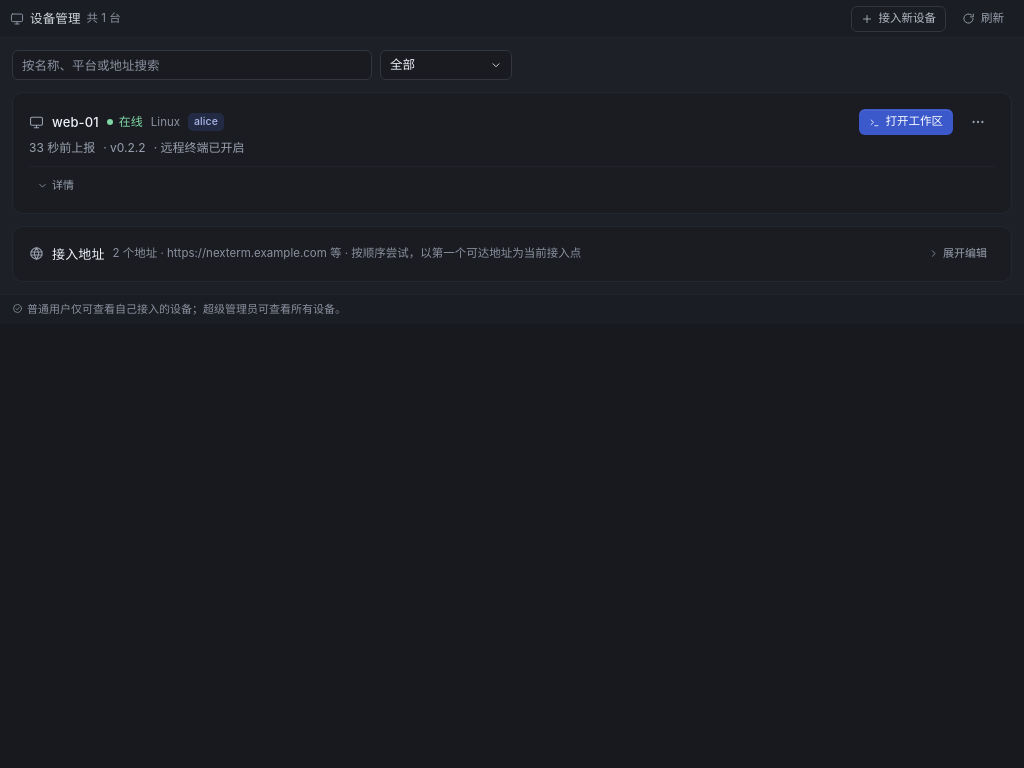
Device management - guided enrollment › generates a new code with 再接入一台 and starts waiting again from the new baseline
Click the button "接入新设备". click: (898, 18)
box: [850,6,946,32]
Wait 3000 ms
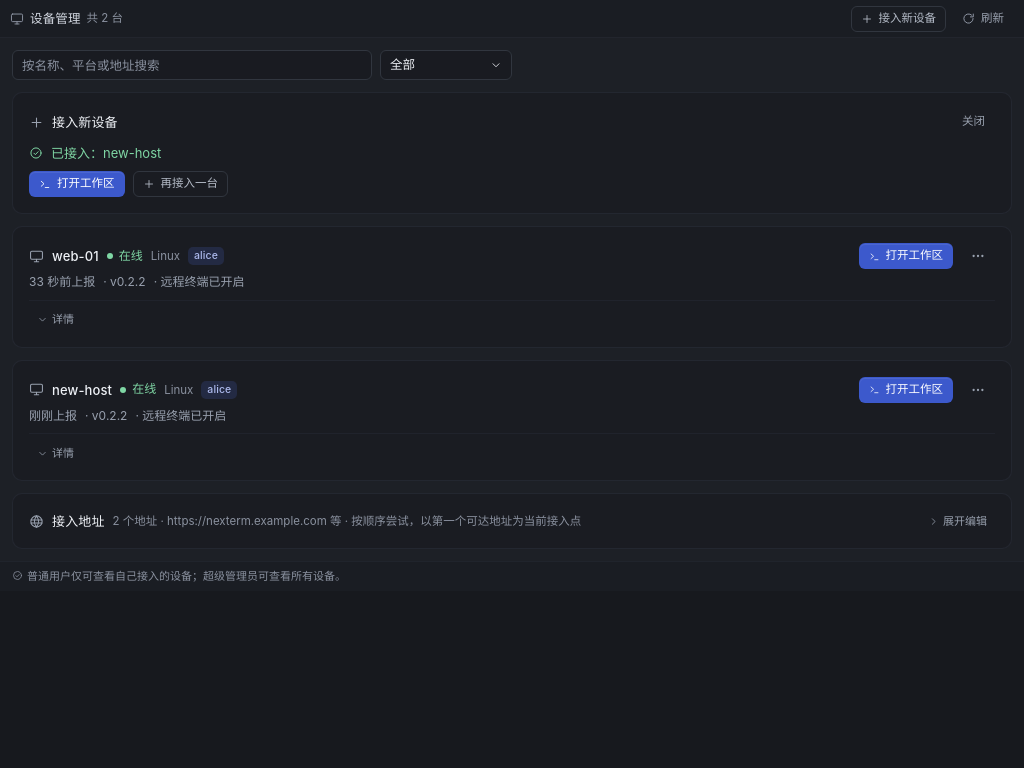
Expected: the text "已接入：new-host" is shown, [51,143,161,163]
Click the button "再接入一台". click: (180, 184)
box: [132,171,228,197]
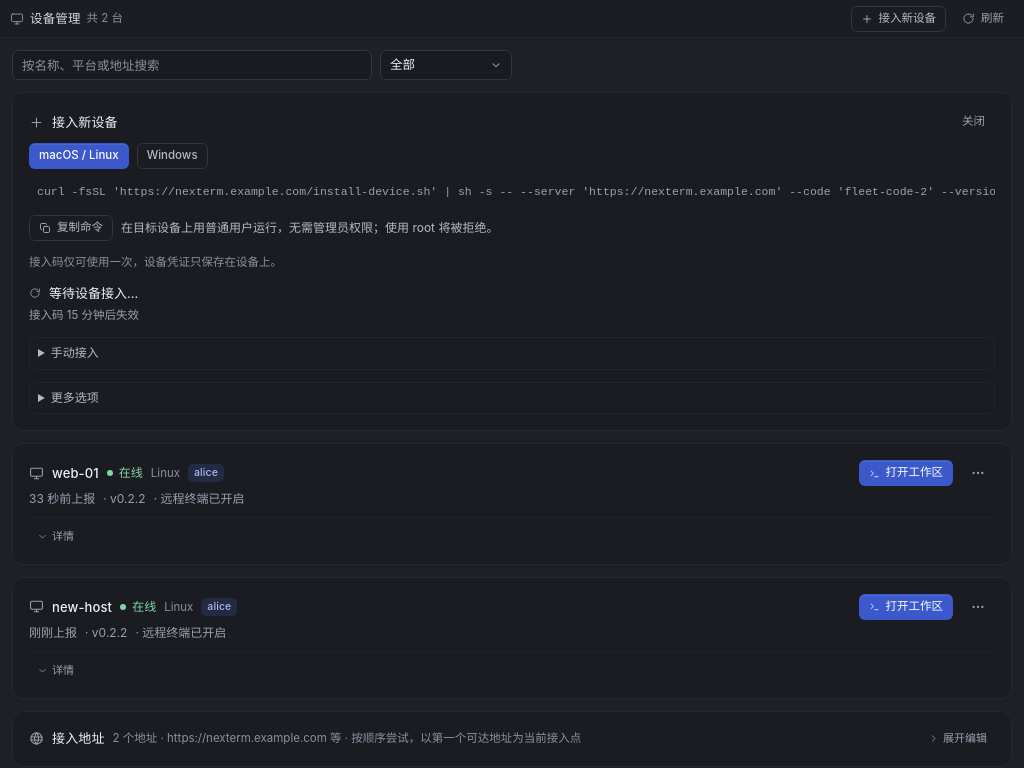
Expected: the text "等待设备接入" is shown, [49,285,138,301]
Expected: the text named "安装命令" shows "'fleet-code-2'", [37,185,1023,198]
